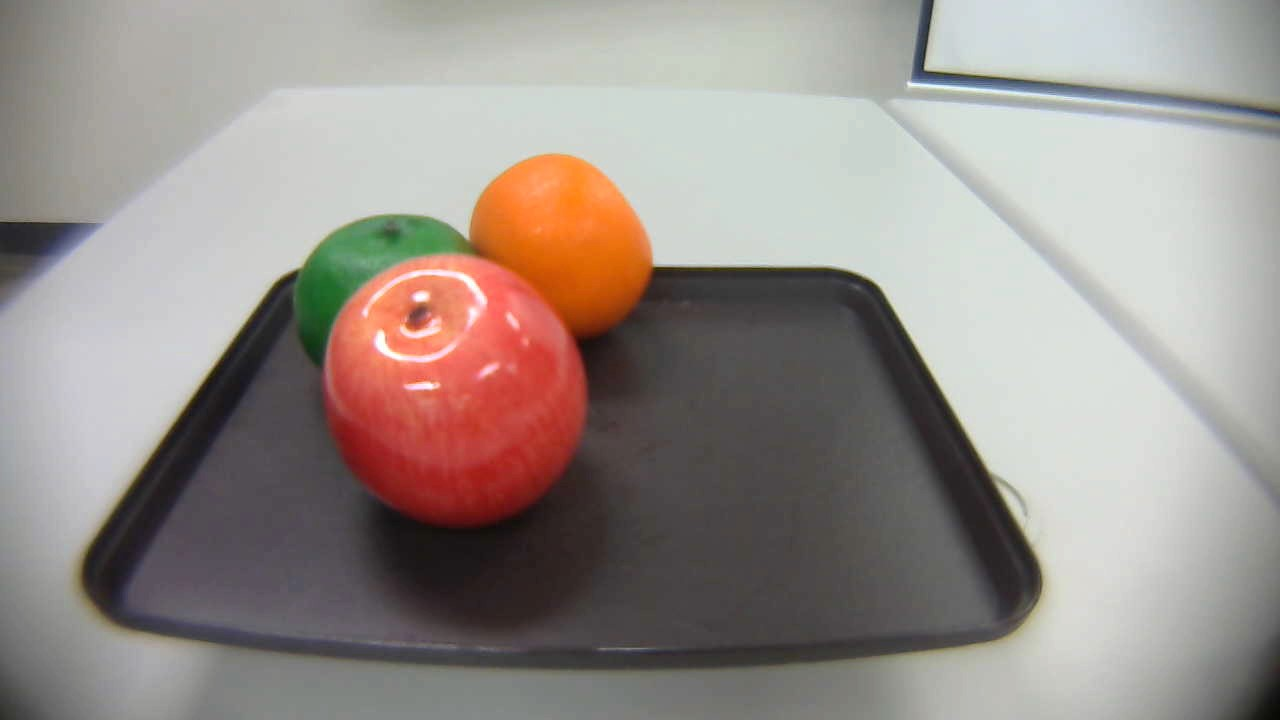green orange: (277, 209, 477, 370)
orange: (446, 143, 660, 340)
red apple: (310, 255, 599, 543)
